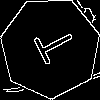T: (25, 22, 79, 71)
